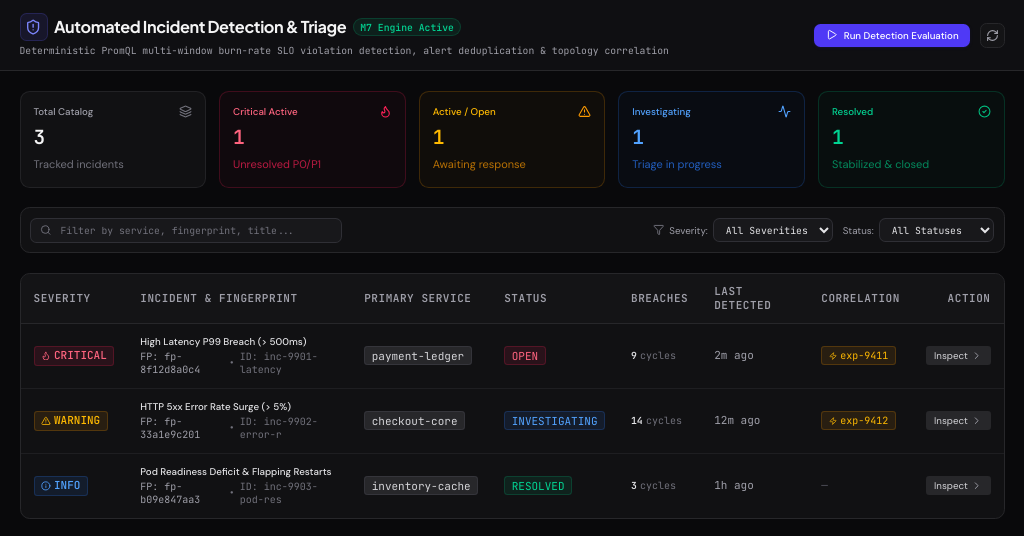
it: Milestone M7: Automated Incident Detection & SLO Violation Triage UI › filters incidents by search query
The width and height of the screenshot is (1024, 536).
Expected: the text "High Latency P99 Breach (> 500ms)" is shown, [140,335,306,348]
Type "payment-ledger" into the field with placeholder "Filter by service, fingerprint, title..." at (186, 230), box [30,218,342,243]
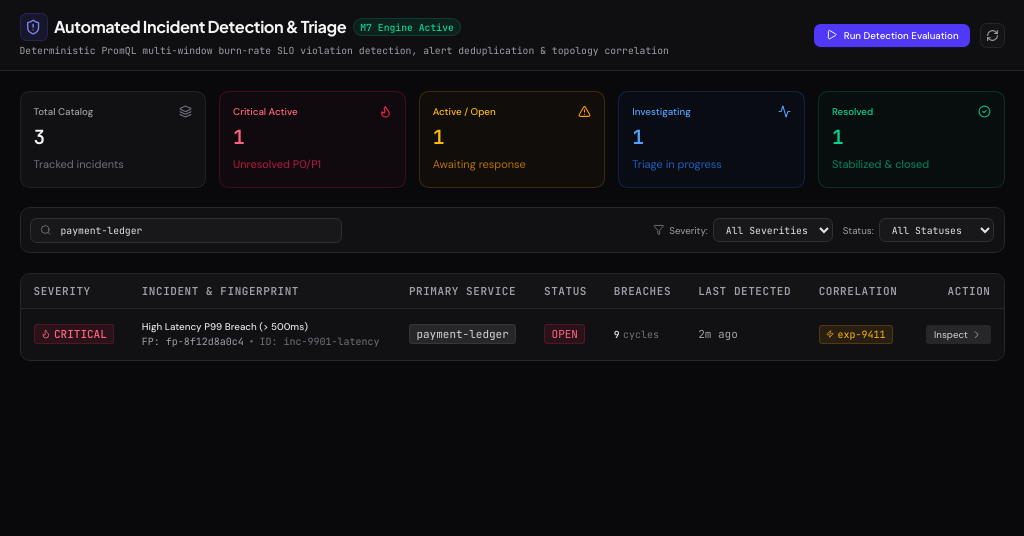
Expected: the text "High Latency P99 Breach (> 500ms)" is shown, [142,320,308,333]
Expected: the text "Pod Readiness Deficit" is gone
